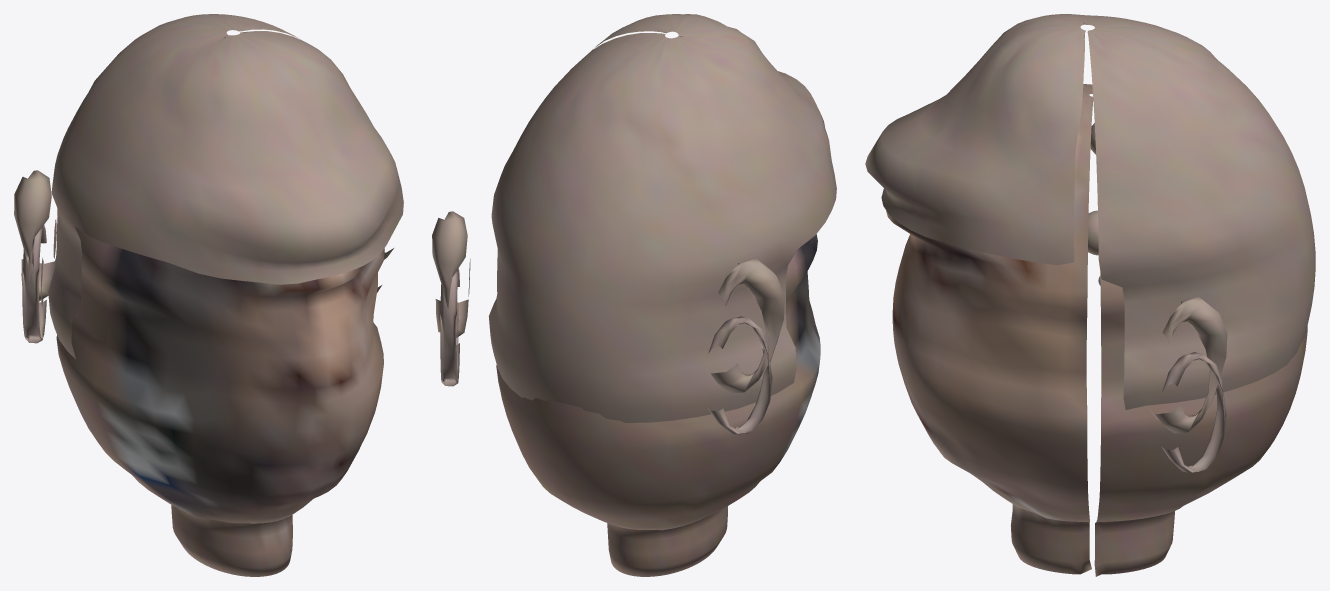
The model's file is avatar_v2_6c02a9a0.glb.
3 views of the same model, side by side, from view 1: azimuth 30°, elevation 25°; view 2: azimuth 150°, elevation 25°; view 3: azimuth 270°, elevation 25° (orthographic). The views are drawn at different scales.
Parts seen in each view (by area): view 1: world; view 2: world; view 3: world.
Boxes of the visible parts, x1,y1,x2,y2 form: world: [14, 14, 403, 576]; world: [432, 14, 836, 576]; world: [865, 14, 1315, 576].
Bounding box in the file's own units: 0.1125 × 0.1556 × 0.1202.
